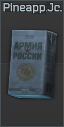Russian Army pineapple juice: (0, 0, 64, 127)
